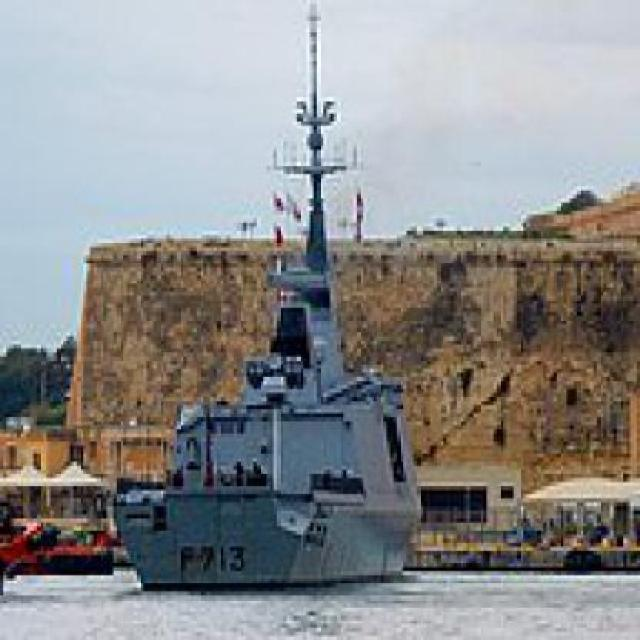warship2: (101, 1, 455, 606)
